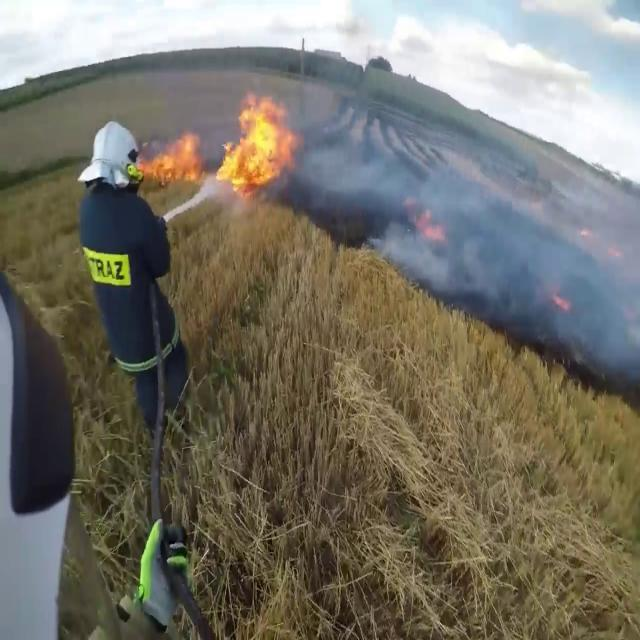Fire: (216, 89, 298, 198), (142, 123, 203, 187)
Smoke: (410, 122, 640, 390), (290, 96, 438, 274)
